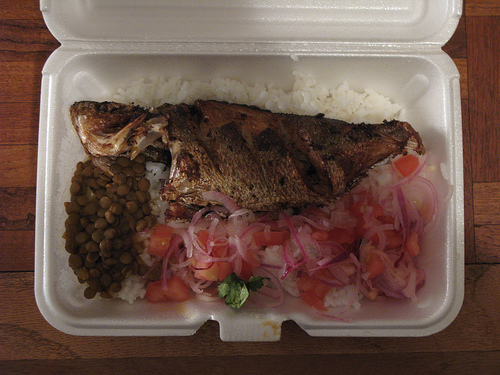fish: (72, 98, 421, 217)
